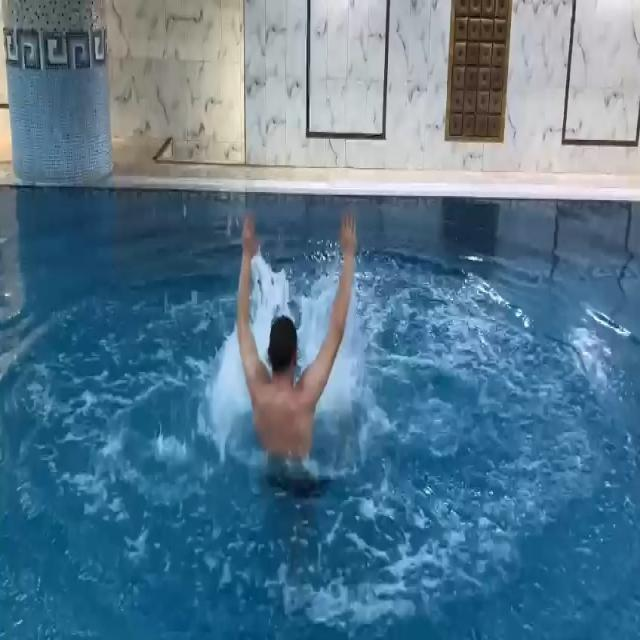Drowning: (238, 211, 356, 461)
